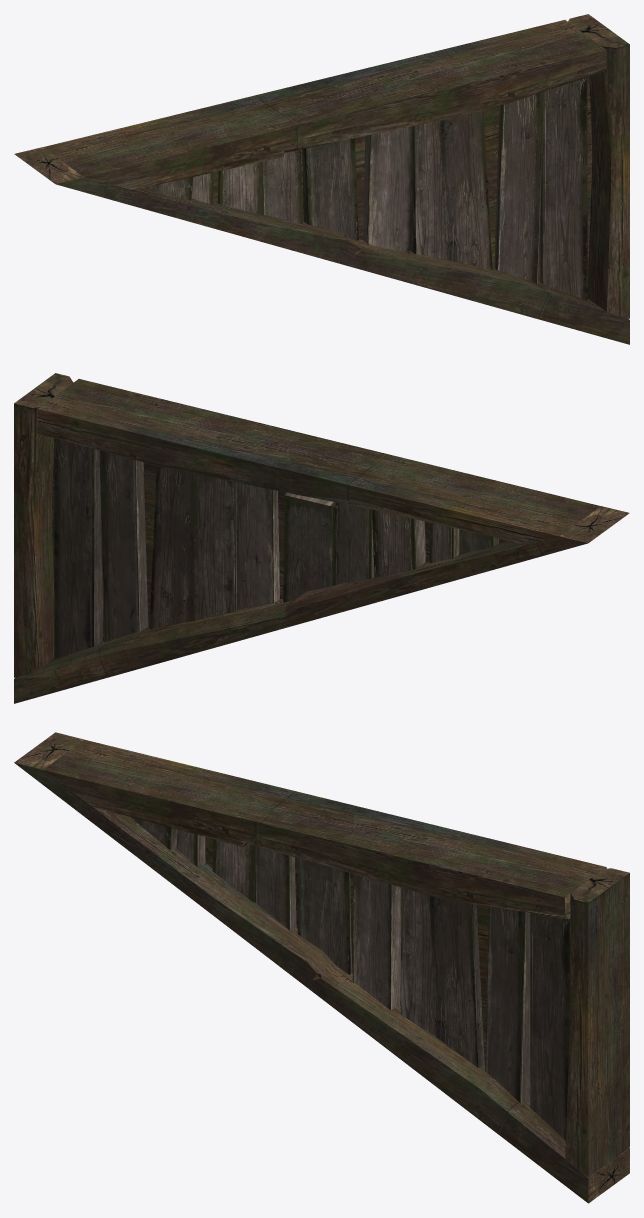
The picture shows the model from 3 angles, top to bottom: view 1: azimuth 30°, elevation 25°; view 2: azimuth 150°, elevation 25°; view 3: azimuth 330°, elevation 25°; orthographic projection.
Visible parts, largest first — view 1: SM_BB_T1_Wall_Slanted_Shallow_Large_Inverted_LOD0; view 2: SM_BB_T1_Wall_Slanted_Shallow_Large_Inverted_LOD0; view 3: SM_BB_T1_Wall_Slanted_Shallow_Large_Inverted_LOD0.
Boxes of the visible parts, x1,y1,x2,y2 form: SM_BB_T1_Wall_Slanted_Shallow_Large_Inverted_LOD0: [14, 14, 629, 344]; SM_BB_T1_Wall_Slanted_Shallow_Large_Inverted_LOD0: [14, 373, 629, 703]; SM_BB_T1_Wall_Slanted_Shallow_Large_Inverted_LOD0: [14, 732, 629, 1203].
Size of the model in its own units: 3 by 1.5 by 0.3751.
2 materials, 2 textured.
